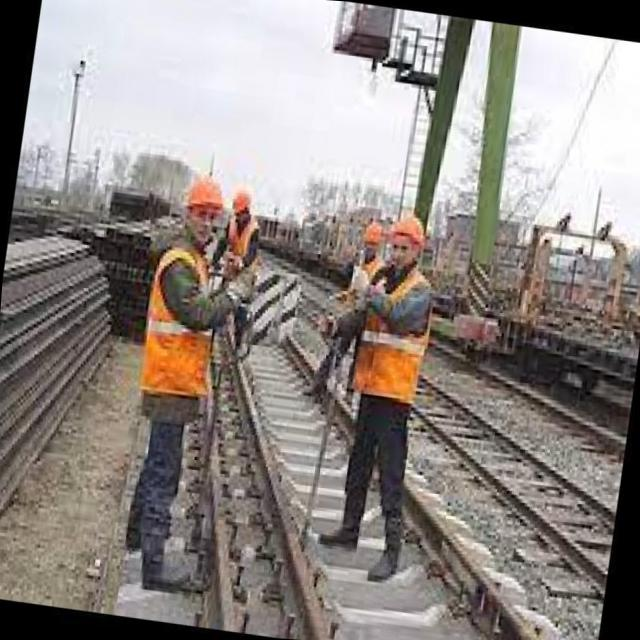person: (124, 178, 258, 589), (318, 215, 433, 582)
